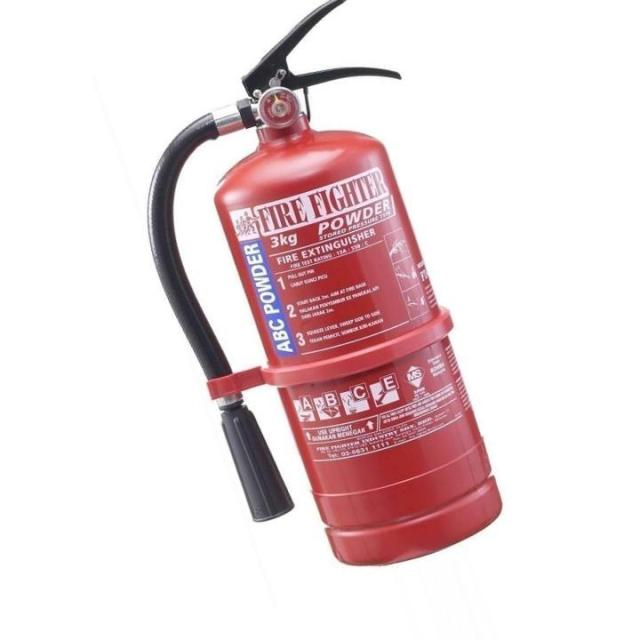fire_extinguisher: (138, 0, 509, 572)
